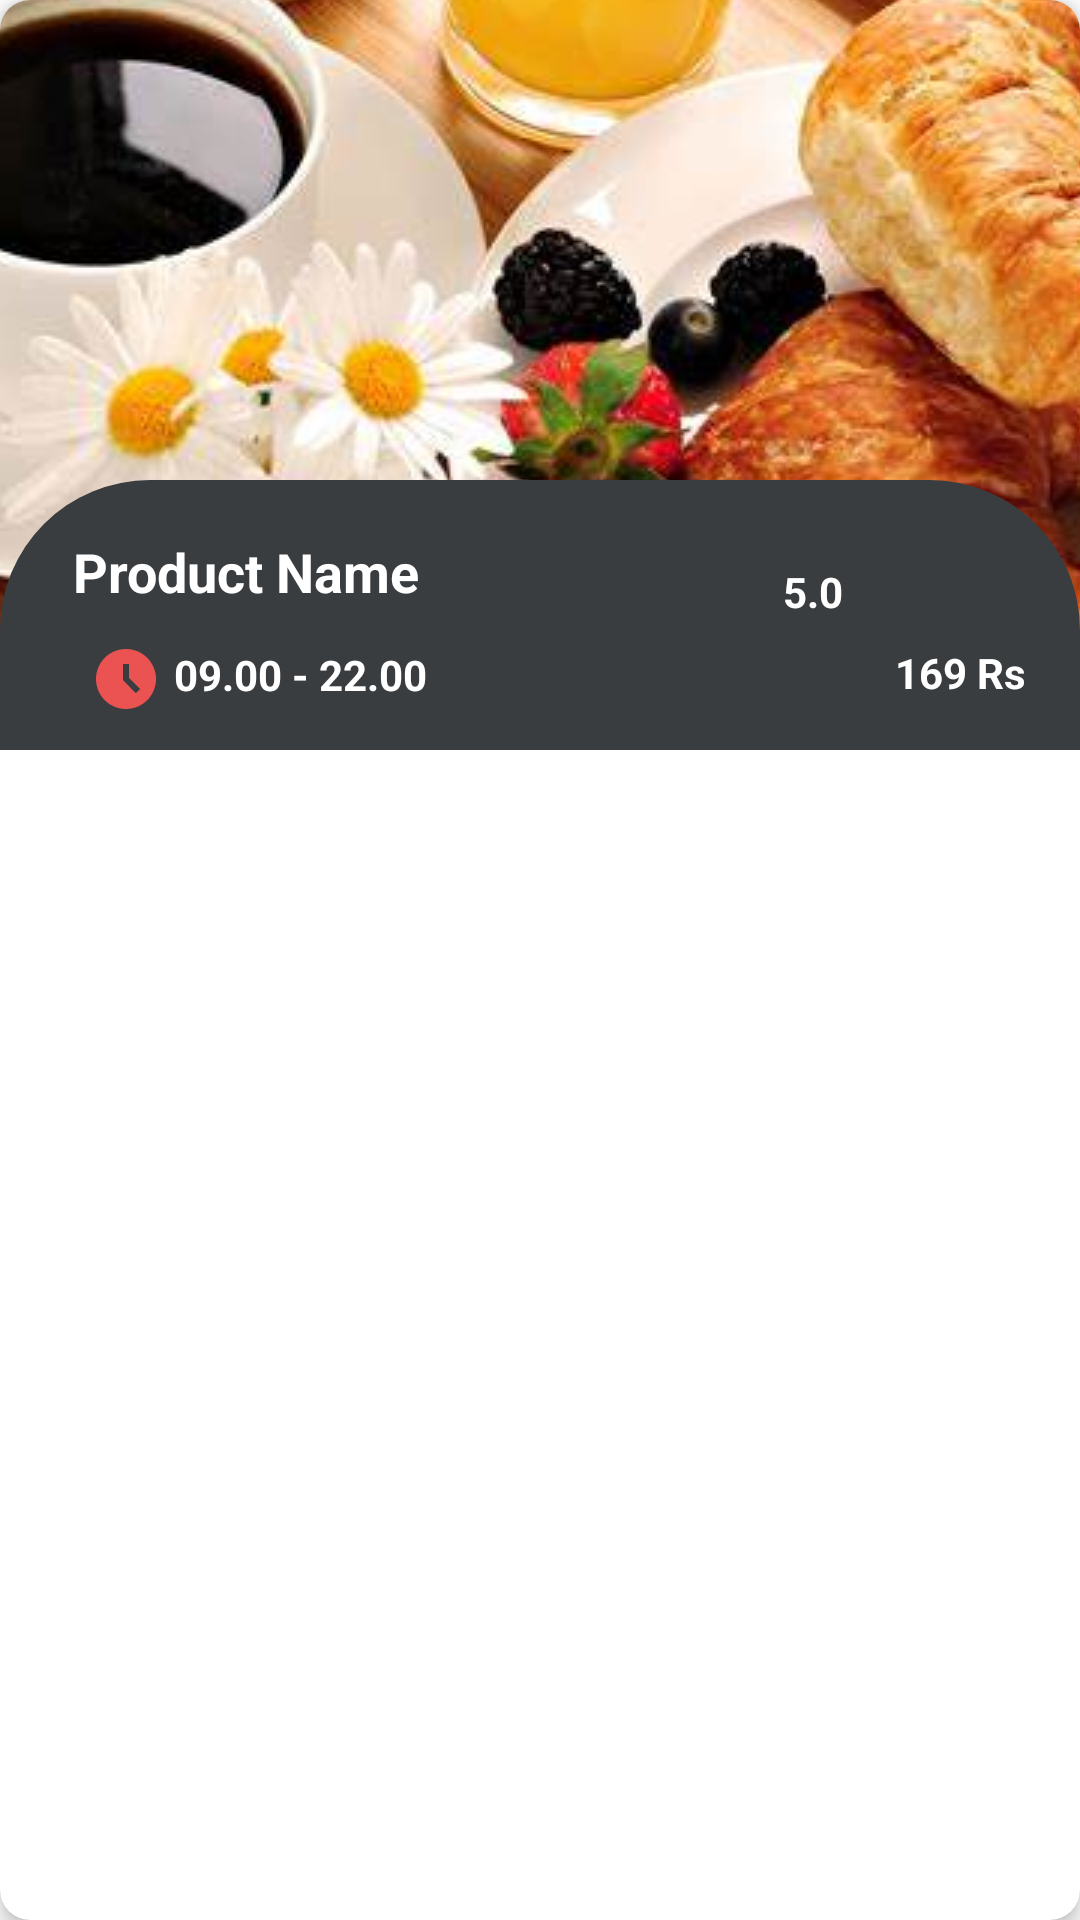

Icons on this 1080x1920 Android screen, each with its box as bbox=[x1, y1, x2, y2]:
access time: bbox=[96, 649, 156, 709]
